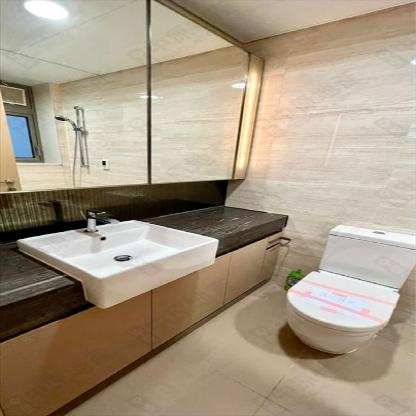Faucet: (76, 206, 128, 234)
Toilet: (287, 224, 415, 353)
Toilet Sink: (14, 219, 221, 309)
